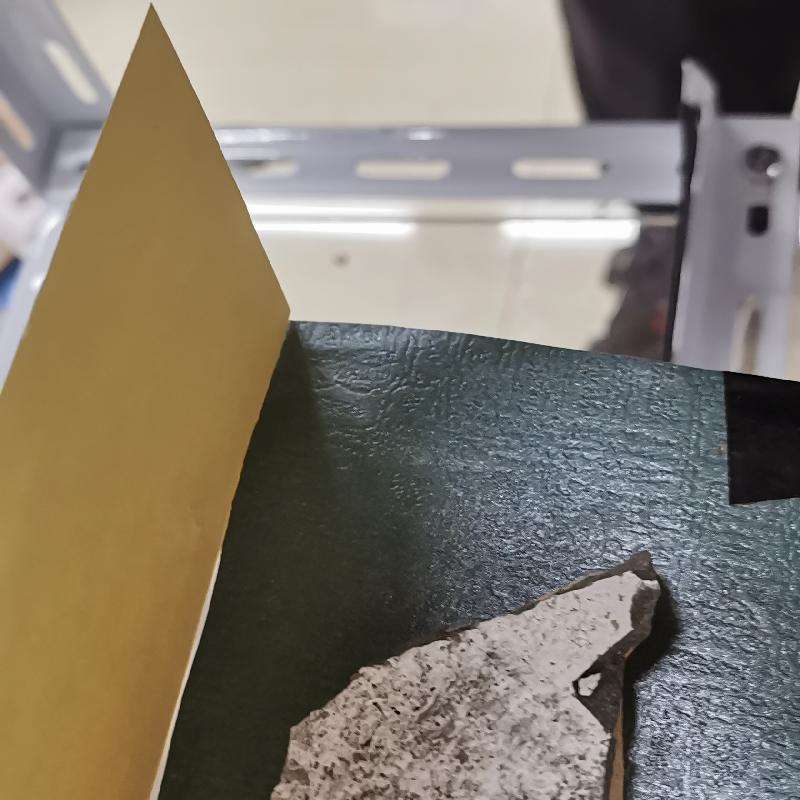tile: (246, 542, 685, 799)
